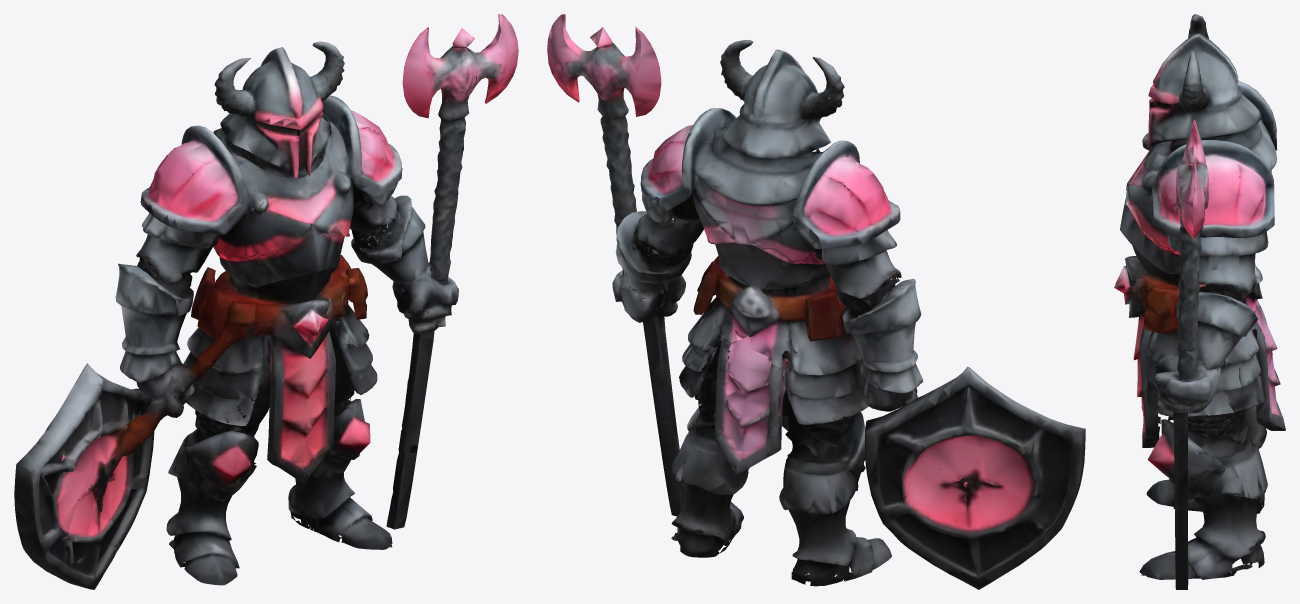
File: fig_obsidian_warden.glb
The picture shows the model from 3 angles, left to right: view 1: azimuth 30°, elevation 25°; view 2: azimuth 150°, elevation 25°; view 3: azimuth 270°, elevation 25°; orthographic projection.
Visible parts, largest first — view 1: fig_obsidian_warden; view 2: fig_obsidian_warden; view 3: fig_obsidian_warden.
Part boxes in pixels (x1,y1,x2,y2): fig_obsidian_warden: (14,14,518,589); fig_obsidian_warden: (547,14,1085,589); fig_obsidian_warden: (1114,14,1285,589).
Bounding box in the file's own units: 1 × 0.9156 × 0.2853.
1 material, 1 textured.
